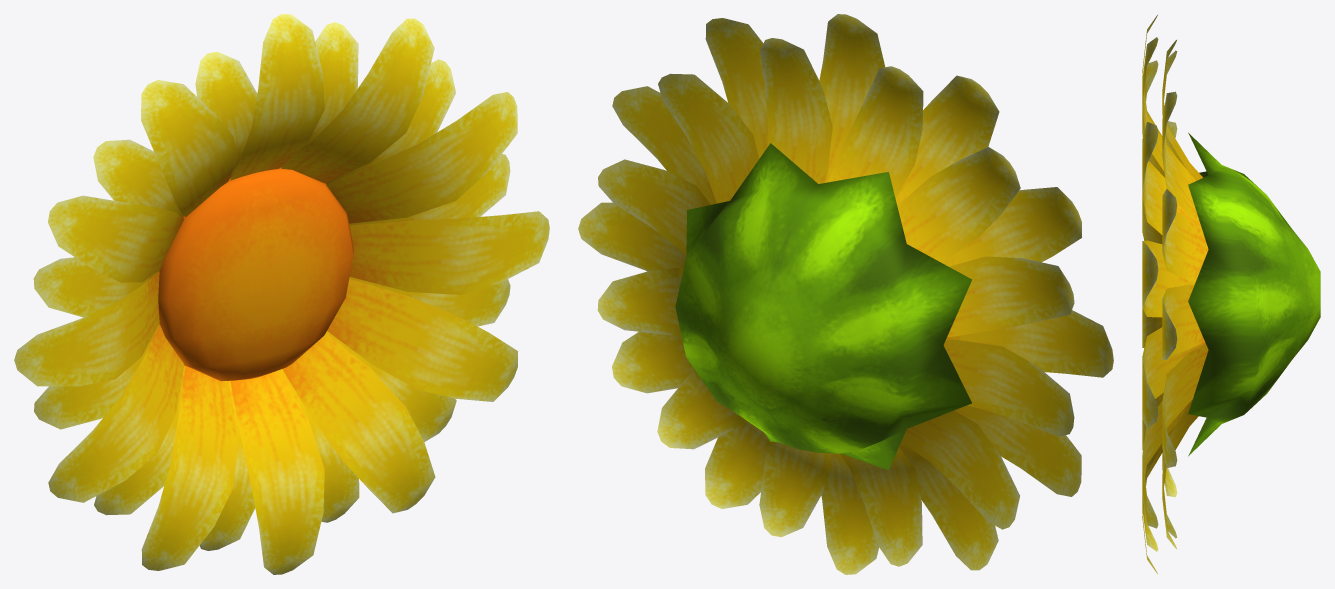
The model's file is daisy.fbx.
The picture shows the model from 3 angles, left to right: view 1: azimuth 30°, elevation 25°; view 2: azimuth 150°, elevation 25°; view 3: azimuth 270°, elevation 25°; orthographic projection. The views are drawn at different scales.
Parts seen in each view (by area): view 1: daisy.petal, daisy.petal.001, daisy.face; view 2: daisy.petal.001, daisy.head, daisy.petal; view 3: daisy.head, daisy.petal.001, daisy.petal.
Boxes of the visible parts, x1,y1,x2,y2 form: daisy.petal: [14, 14, 549, 574]; daisy.petal.001: [33, 22, 510, 550]; daisy.face: [158, 167, 353, 381]; daisy.petal.001: [597, 38, 1074, 566]; daisy.head: [675, 143, 971, 470]; daisy.petal: [578, 14, 1113, 574]; daisy.head: [1188, 132, 1320, 456]; daisy.petal.001: [1162, 40, 1208, 548]; daisy.petal: [1142, 15, 1205, 573].
Size of the model in its own units: 429 by 429 by 136.
